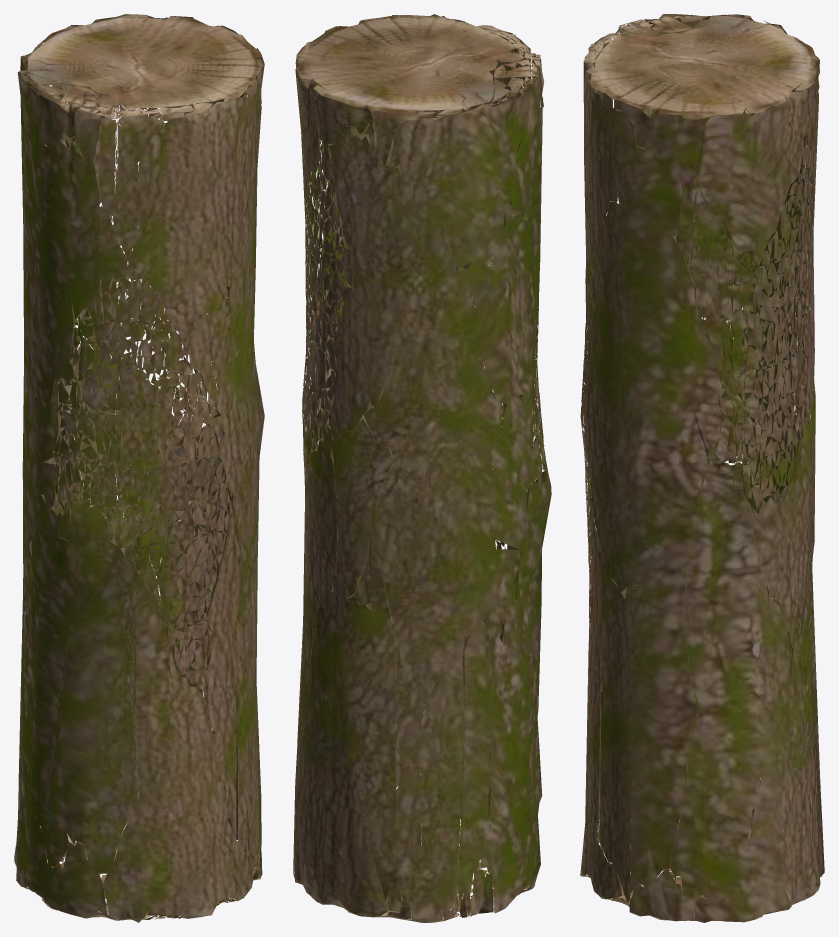
The model's file is obs_log.glb.
3 renders of one model, left to right at view 1: azimuth 30°, elevation 25°; view 2: azimuth 150°, elevation 25°; view 3: azimuth 270°, elevation 25°, orthographic.
Visible parts, largest first — view 1: obs_log; view 2: obs_log; view 3: obs_log.
Boxes of the visible parts, box(x1,y1,x2,y2) form: obs_log: box(14, 14, 264, 922); obs_log: box(293, 14, 551, 922); obs_log: box(580, 14, 824, 922).
Bounding box in the file's own units: 0.3237 × 1.16 × 0.3159.
Materials: 1 (1 with a texture image).
